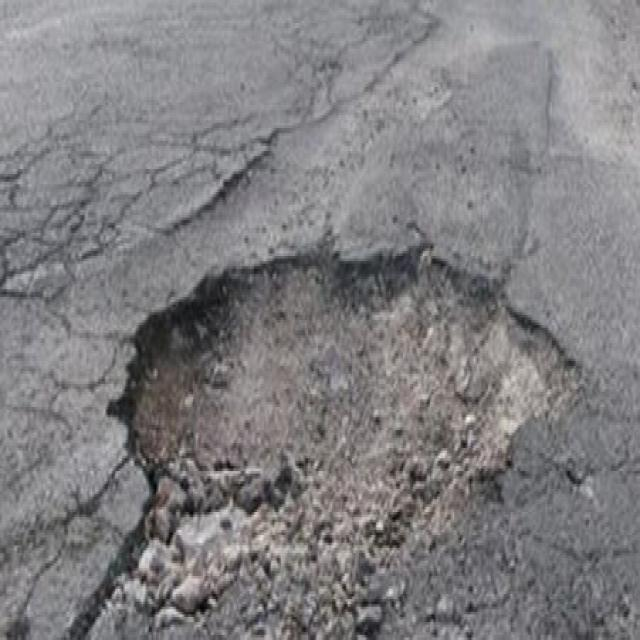Pothole: (60, 232, 596, 639)
